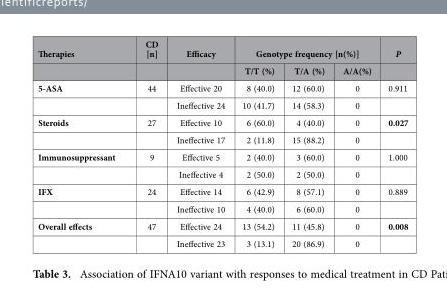table: (37, 37, 407, 249)
table column: (37, 37, 129, 249), (166, 37, 232, 249), (282, 37, 333, 249), (232, 37, 282, 249), (333, 37, 379, 249), (129, 37, 166, 249), (379, 37, 407, 249)
table column header: (37, 37, 407, 78)
table row: (37, 37, 407, 61), (37, 78, 407, 96), (37, 130, 407, 148), (37, 199, 407, 217), (37, 61, 407, 78), (37, 96, 407, 113), (37, 113, 407, 130), (37, 148, 407, 165), (37, 165, 407, 182), (37, 182, 407, 199), (37, 217, 407, 234), (37, 234, 407, 249)
table spanning cell: (37, 37, 129, 78), (232, 37, 379, 61), (37, 78, 129, 113), (37, 113, 129, 148), (37, 182, 129, 217), (37, 148, 129, 182), (37, 217, 129, 249), (166, 37, 232, 78), (129, 37, 166, 78), (379, 37, 407, 78)
